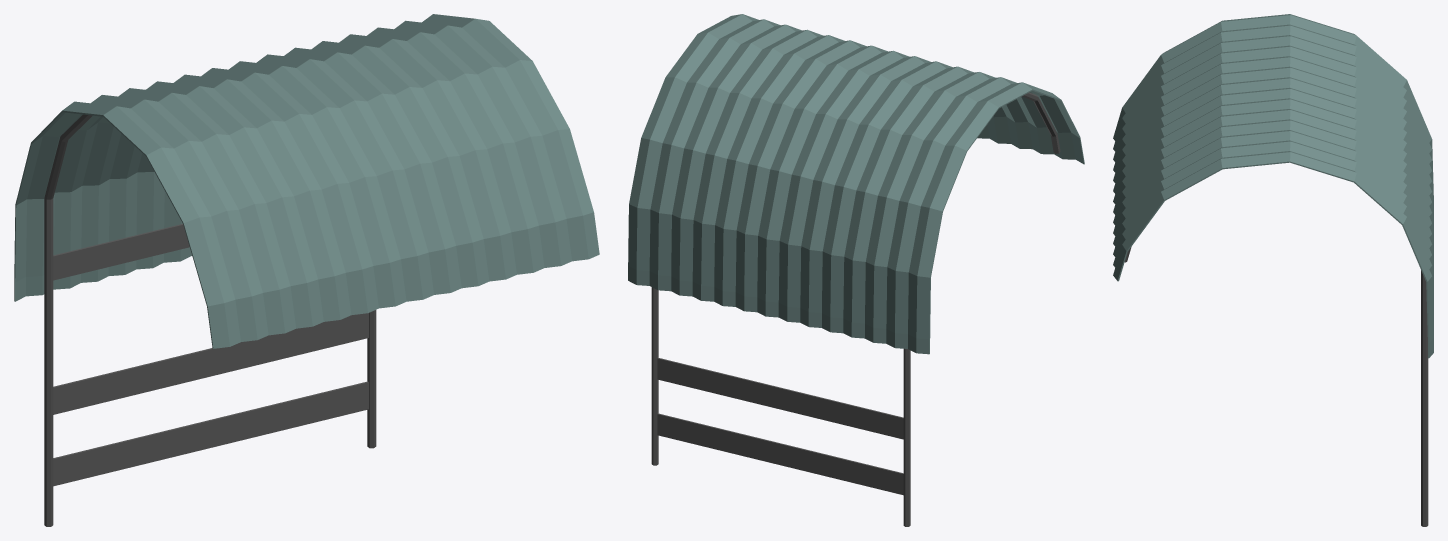
File: P_ROOFINGS.fbx
3 views of the same model, side by side, from view 1: azimuth 30°, elevation 25°; view 2: azimuth 150°, elevation 25°; view 3: azimuth 270°, elevation 25° (orthographic). The views are drawn at different scales.
Visible parts, largest first — view 1: Roofings; view 2: Roofings; view 3: Roofings.
Part boxes in pixels (x1,y1,x2,y2): Roofings: (14, 14, 599, 526); Roofings: (628, 14, 1084, 526); Roofings: (1113, 14, 1433, 526).
Bounding box in the file's own units: 503 × 605 × 462.
